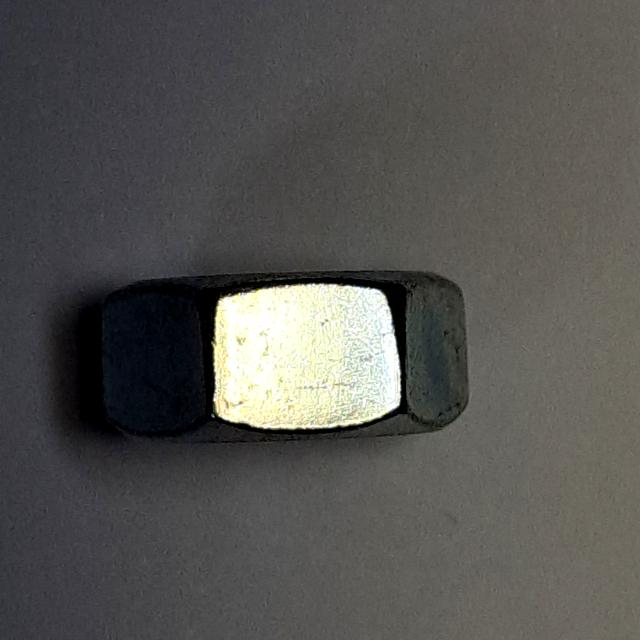Side_Excellent: (87, 256, 482, 461)
